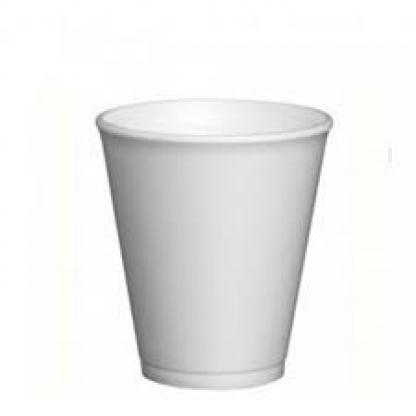Plastic: (81, 61, 338, 409)
